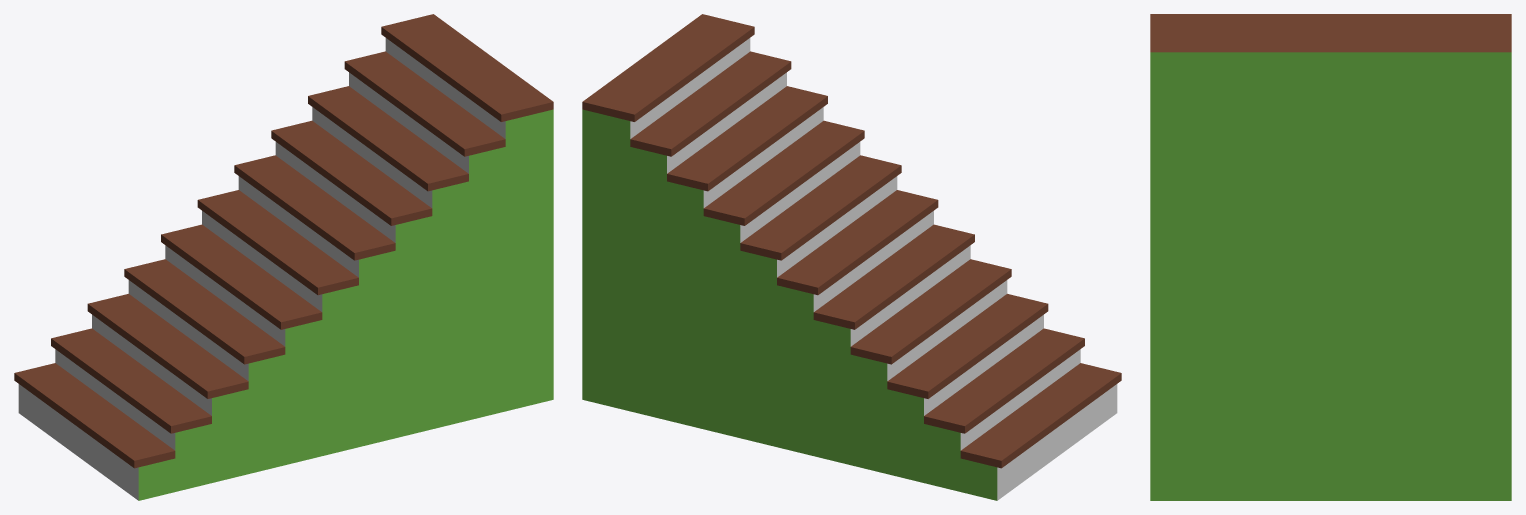
The model's file is stairs.fbx.
3 renders of one model, left to right at view 1: azimuth 30°, elevation 25°; view 2: azimuth 150°, elevation 25°; view 3: azimuth 270°, elevation 25°, orthographic. The views are drawn at different scales.
Visible parts, largest first — view 1: stairs; view 2: stairs; view 3: stairs.
Part boxes in pixels (x1,y1,x2,y2): stairs: (14,14,553,500); stairs: (582,14,1121,500); stairs: (1150,14,1511,500).
Size of the model in its own units: 408 by 277 by 202.
